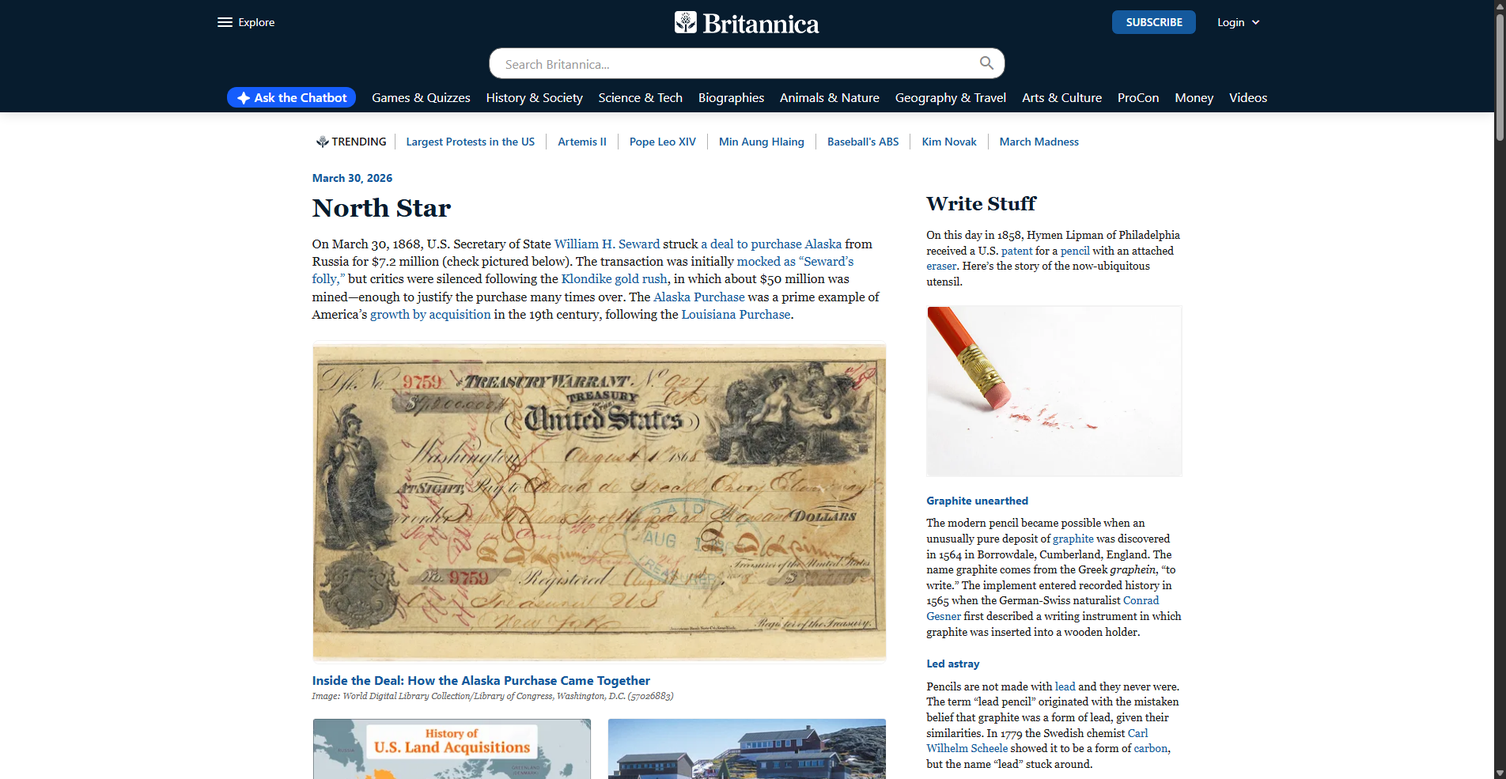button: (207, 4, 283, 40), (1205, 5, 1275, 39), (1112, 10, 1197, 35), (969, 47, 1005, 79), (312, 129, 352, 154), (1054, 129, 1094, 154), (215, 85, 240, 110), (1254, 85, 1279, 110)
input: (489, 47, 1005, 79)
label: (488, 47, 489, 47)
link: (312, 340, 887, 664), (926, 306, 1182, 477), (312, 254, 854, 287), (312, 718, 592, 779), (607, 718, 887, 779), (926, 594, 1159, 622), (926, 726, 1148, 755), (312, 672, 650, 688), (312, 194, 451, 222), (926, 493, 1182, 508), (926, 656, 1182, 671), (227, 87, 356, 108), (926, 193, 1035, 214), (895, 89, 1006, 109), (394, 134, 535, 149), (701, 236, 842, 251), (780, 89, 880, 109), (372, 89, 470, 109), (486, 89, 583, 109), (370, 307, 491, 322), (599, 89, 683, 109), (681, 307, 790, 322), (1022, 89, 1102, 109), (554, 236, 660, 251), (561, 272, 667, 287), (707, 134, 804, 149), (653, 289, 745, 304), (988, 134, 1079, 149), (698, 89, 764, 109), (815, 134, 899, 149), (312, 170, 392, 185), (618, 134, 696, 149), (910, 134, 977, 149), (546, 134, 606, 149), (1118, 89, 1159, 109), (1175, 89, 1214, 109), (1229, 89, 1267, 109), (1053, 532, 1094, 545), (1134, 742, 1168, 755), (1001, 244, 1033, 257), (1060, 244, 1090, 257), (926, 260, 957, 272), (1055, 680, 1076, 693)
